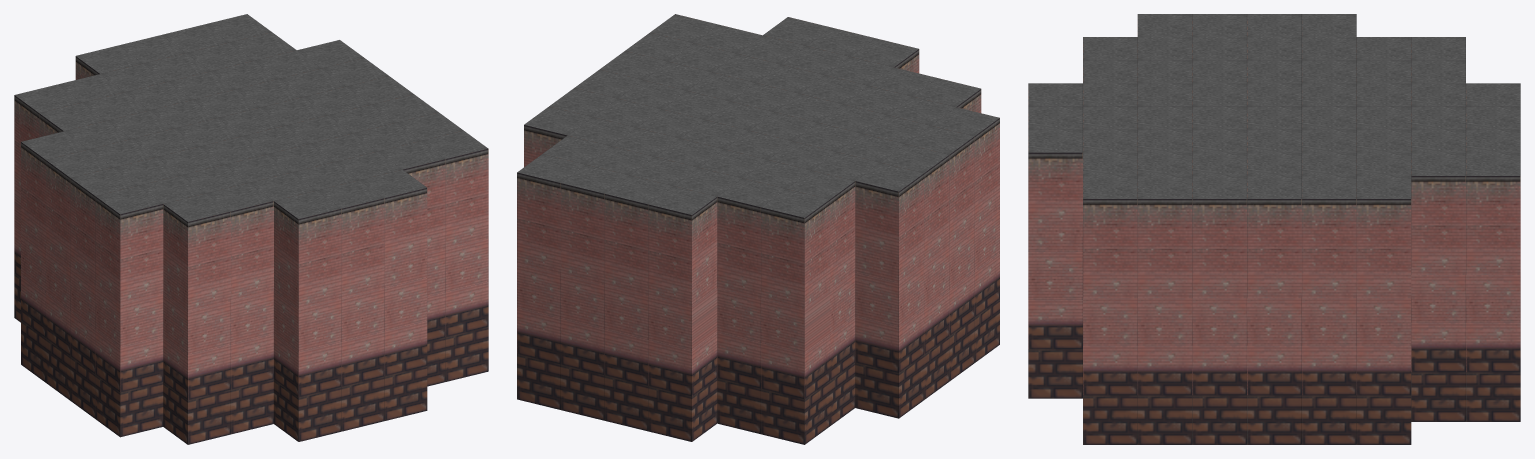
Rendered from water_room.fbx.
3 renders of one model, left to right at view 1: azimuth 30°, elevation 25°; view 2: azimuth 150°, elevation 25°; view 3: azimuth 270°, elevation 25°, orthographic. The views are drawn at different scales.
Parts seen in each view (by area): view 1: Level; view 2: Level; view 3: Level.
Part boxes in pixels (bbox=[...]): Level: bbox=[14, 14, 488, 444]; Level: bbox=[517, 14, 999, 444]; Level: bbox=[1028, 14, 1520, 444].
Size of the model in its own units: 800 by 496 by 900.
